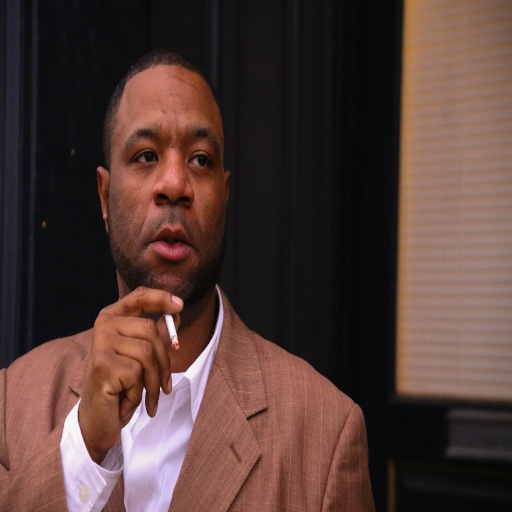hand: (80, 284, 183, 451)
